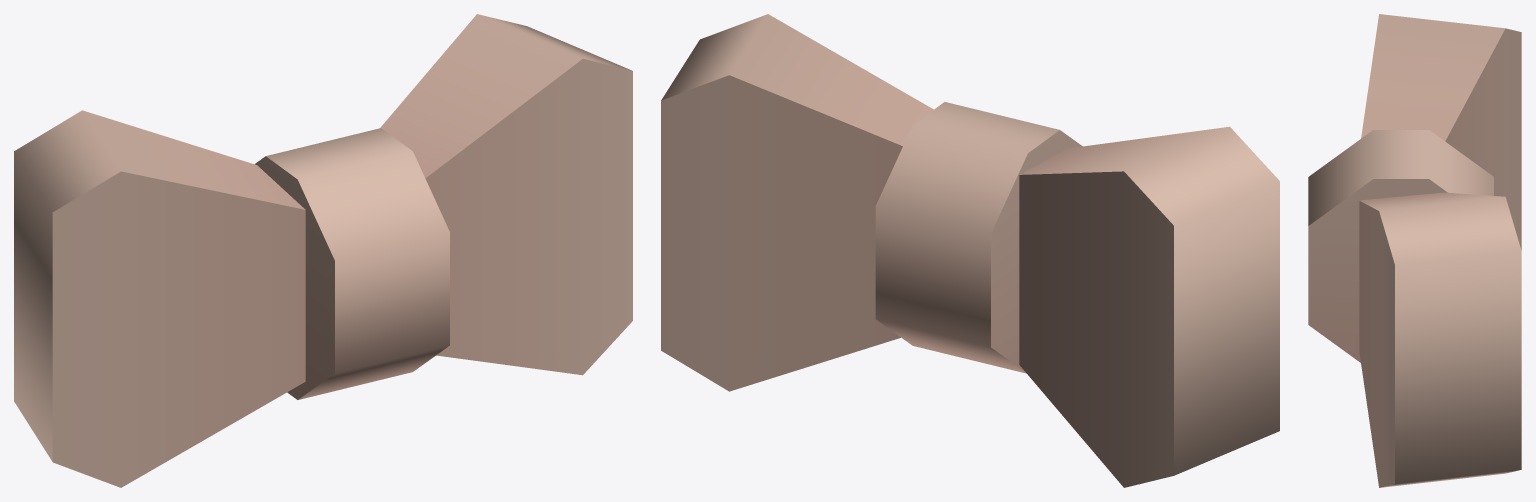
The model's file is handles-bow.glb.
3 renders of one model, left to right at view 1: azimuth 30°, elevation 25°; view 2: azimuth 150°, elevation 25°; view 3: azimuth 270°, elevation 25°, orthographic. The views are drawn at different scales.
Visible parts, largest first — view 1: handles-bow; view 2: handles-bow; view 3: handles-bow.
Part boxes in pixels (box(x1,y1,x2,y2)): handles-bow: box(14, 14, 632, 487); handles-bow: box(661, 14, 1279, 487); handles-bow: box(1308, 14, 1521, 487).
Size of the model in its own units: 0.1418 by 0.074 by 0.0516.
